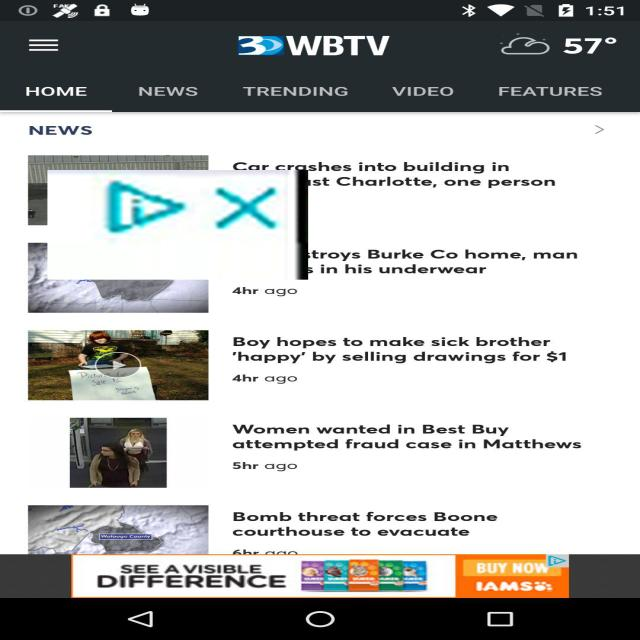sneaking: (48, 170, 308, 280)
